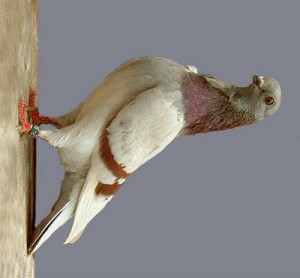pigeon: (16, 55, 283, 258)
